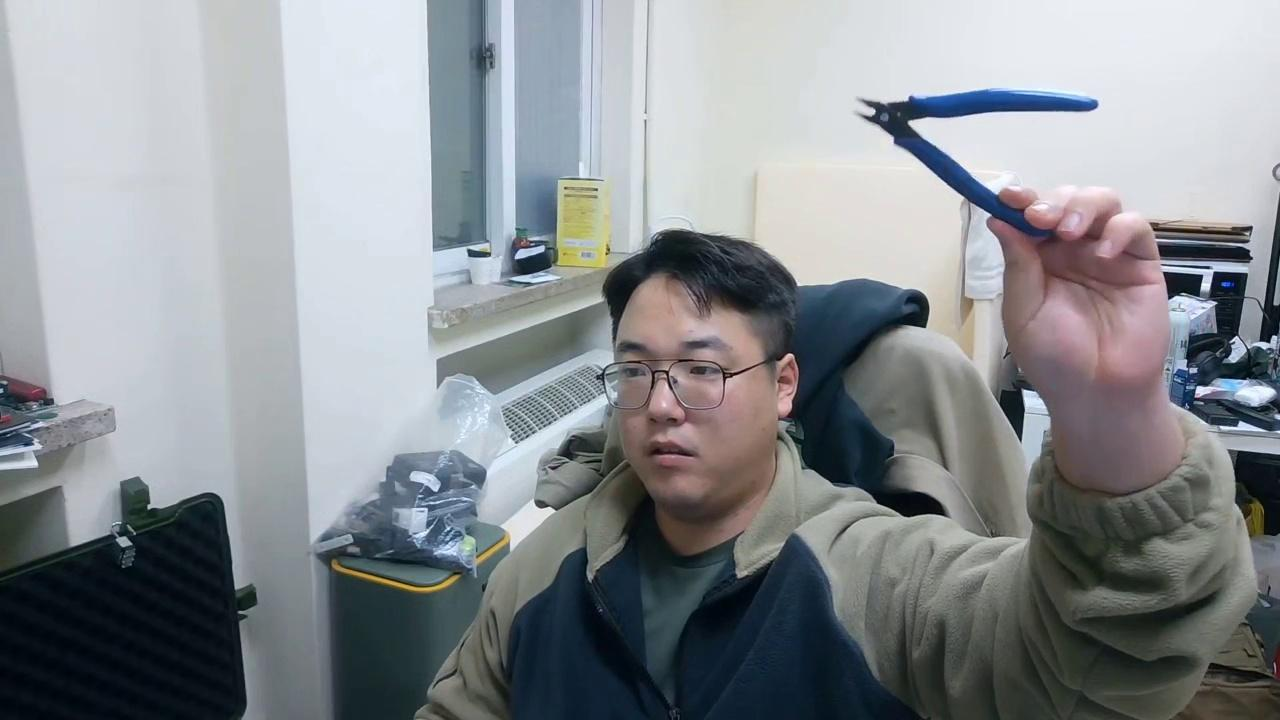blue_pliers: (853, 85, 1101, 241)
